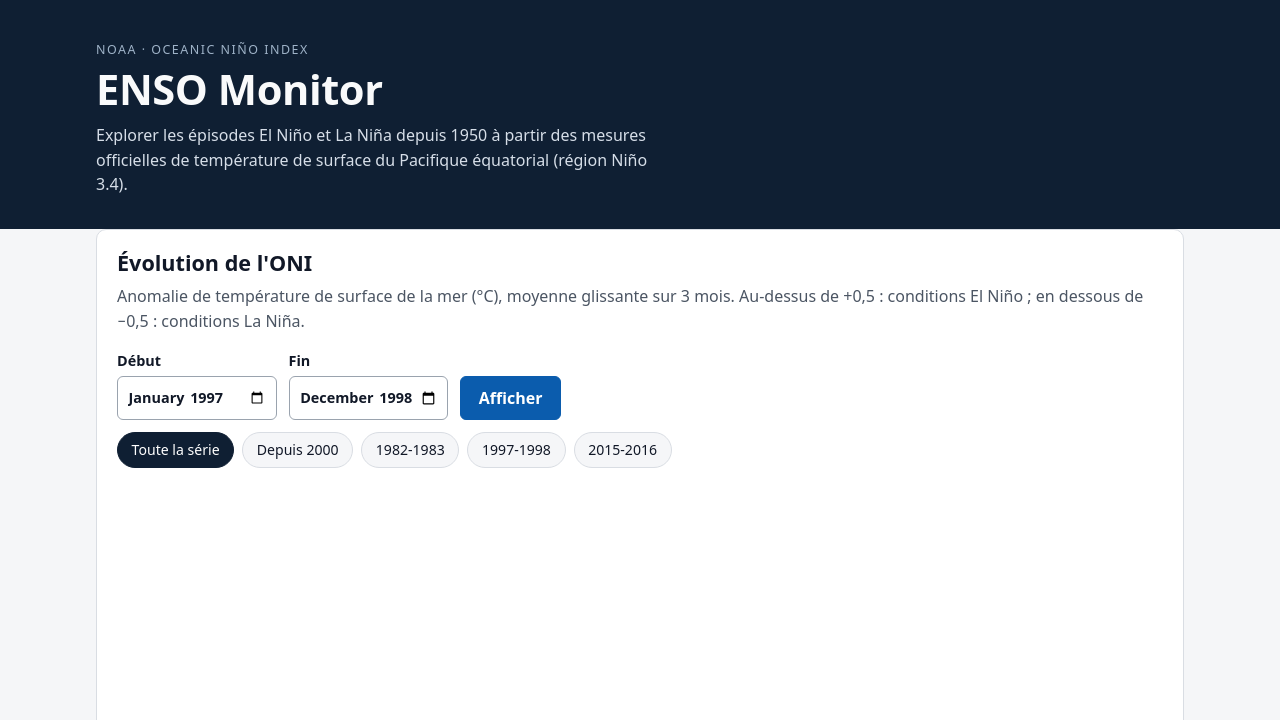
Scenario: Évolution de l’ONI › refuse une période inversée sans appeler l’API
Replace the text in the field labelled "Début" with "1998-06" at [197, 398], box x1=117 y1=376 x2=277 y2=420
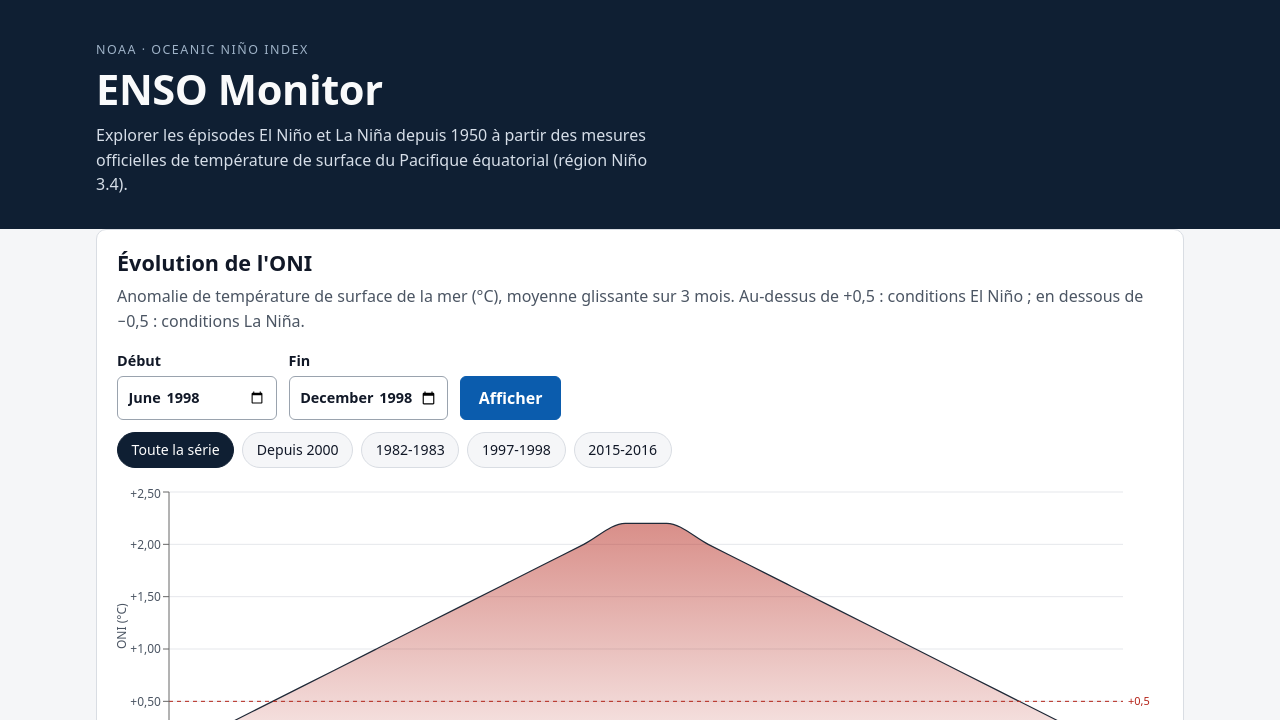
Replace the text in the field labelled "Fin" with "1997-02" at [368, 398], box x1=289 y1=376 x2=448 y2=420
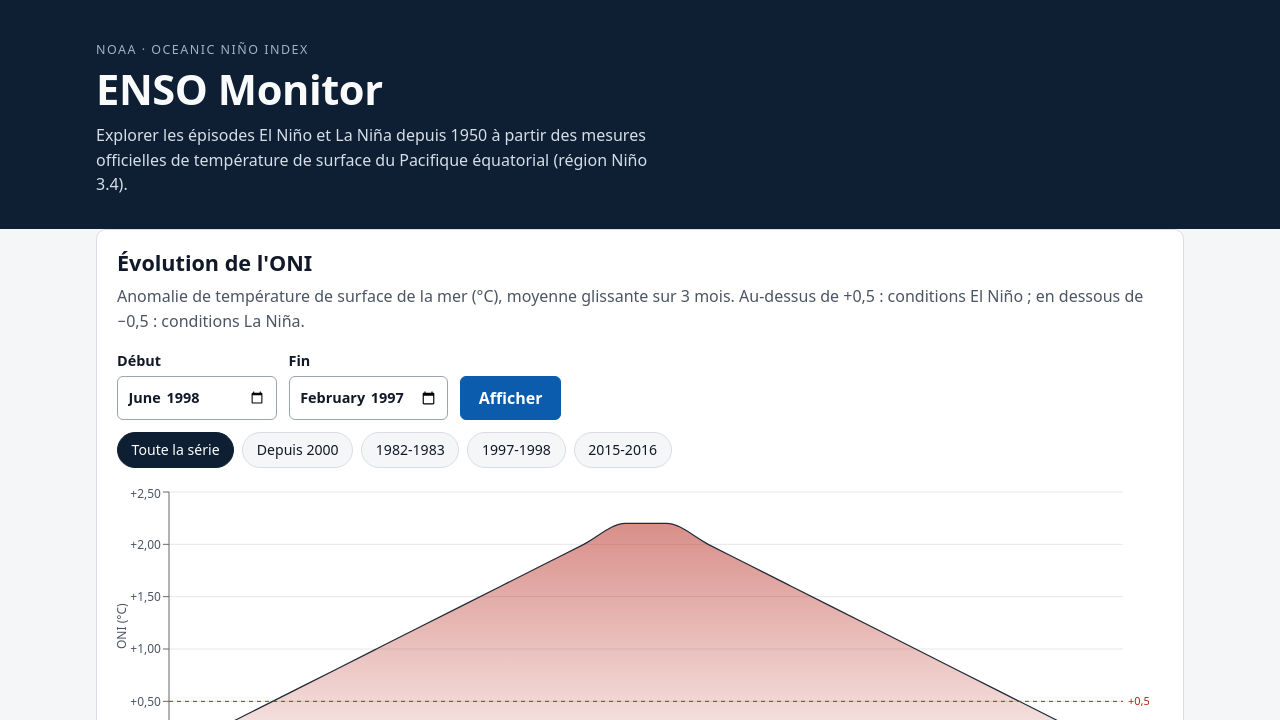
Click the button "Afficher".
click(511, 398)  # box x1=460 y1=376 x2=561 y2=420
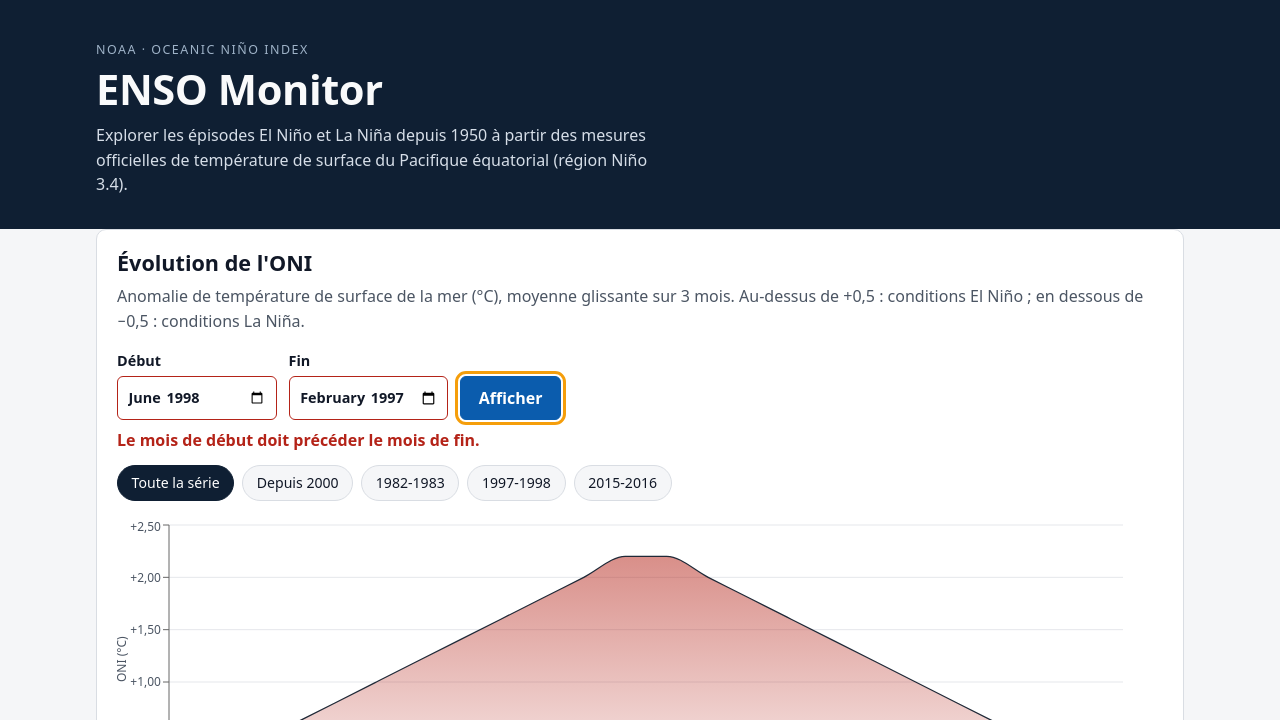
Now the message reads "Le mois de début doit précéder le mois de fin.", box x1=117 y1=429 x2=480 y2=451
